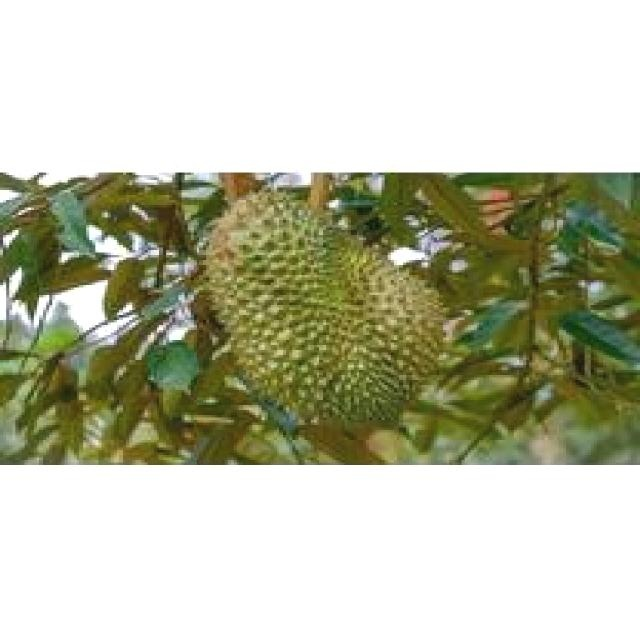agrume: (194, 177, 452, 427)
